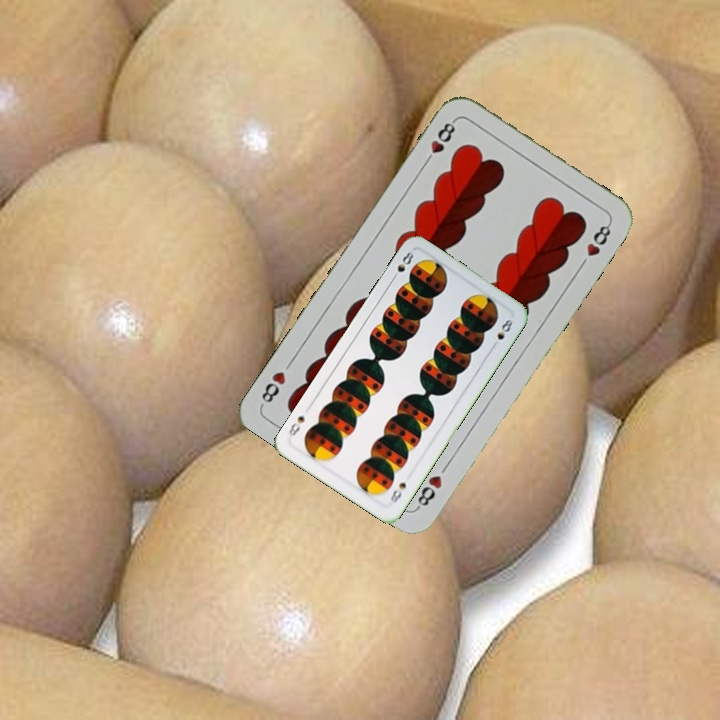H8: (420, 115, 459, 168), (412, 471, 445, 512)
S8: (388, 248, 416, 284), (386, 478, 409, 506)
